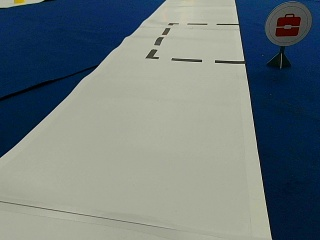company: (266, 2, 312, 44)
